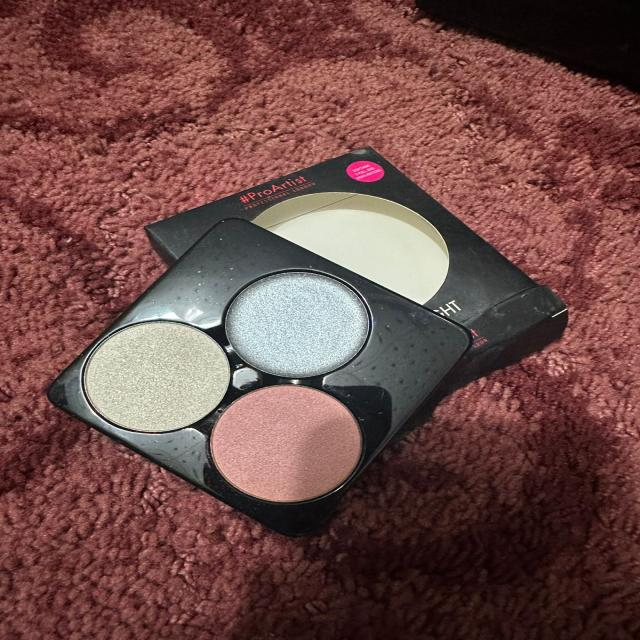highlighter: (203, 382, 385, 508), (62, 315, 236, 435), (219, 255, 381, 383)
